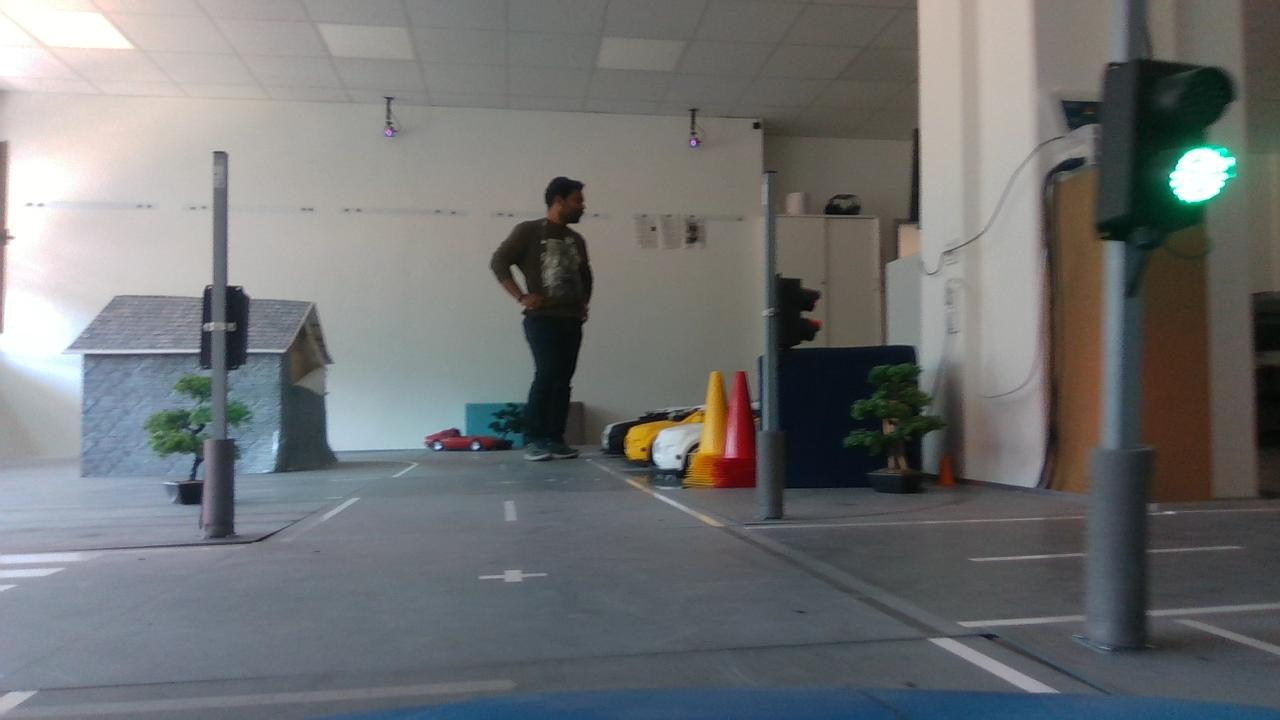traffic_light_green: (1085, 48, 1248, 244)
